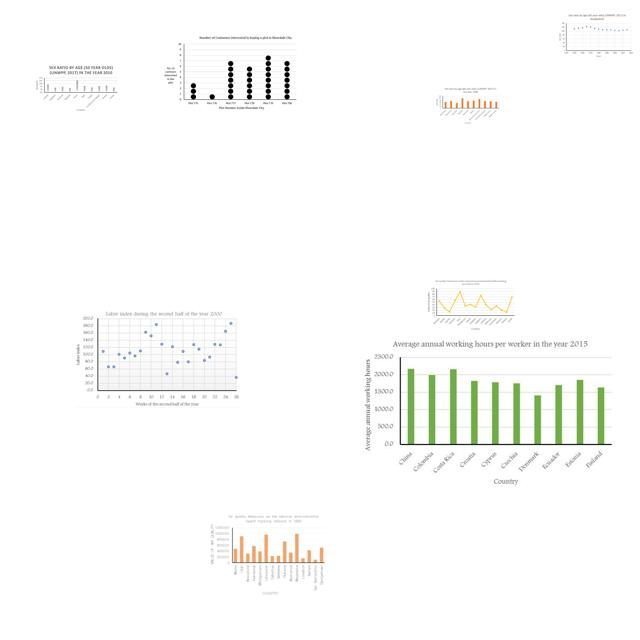Graph: (362, 337, 616, 487), (75, 309, 240, 408), (162, 34, 298, 113), (207, 513, 327, 598), (425, 278, 516, 332), (34, 64, 119, 112), (557, 13, 634, 58), (434, 86, 500, 125)
